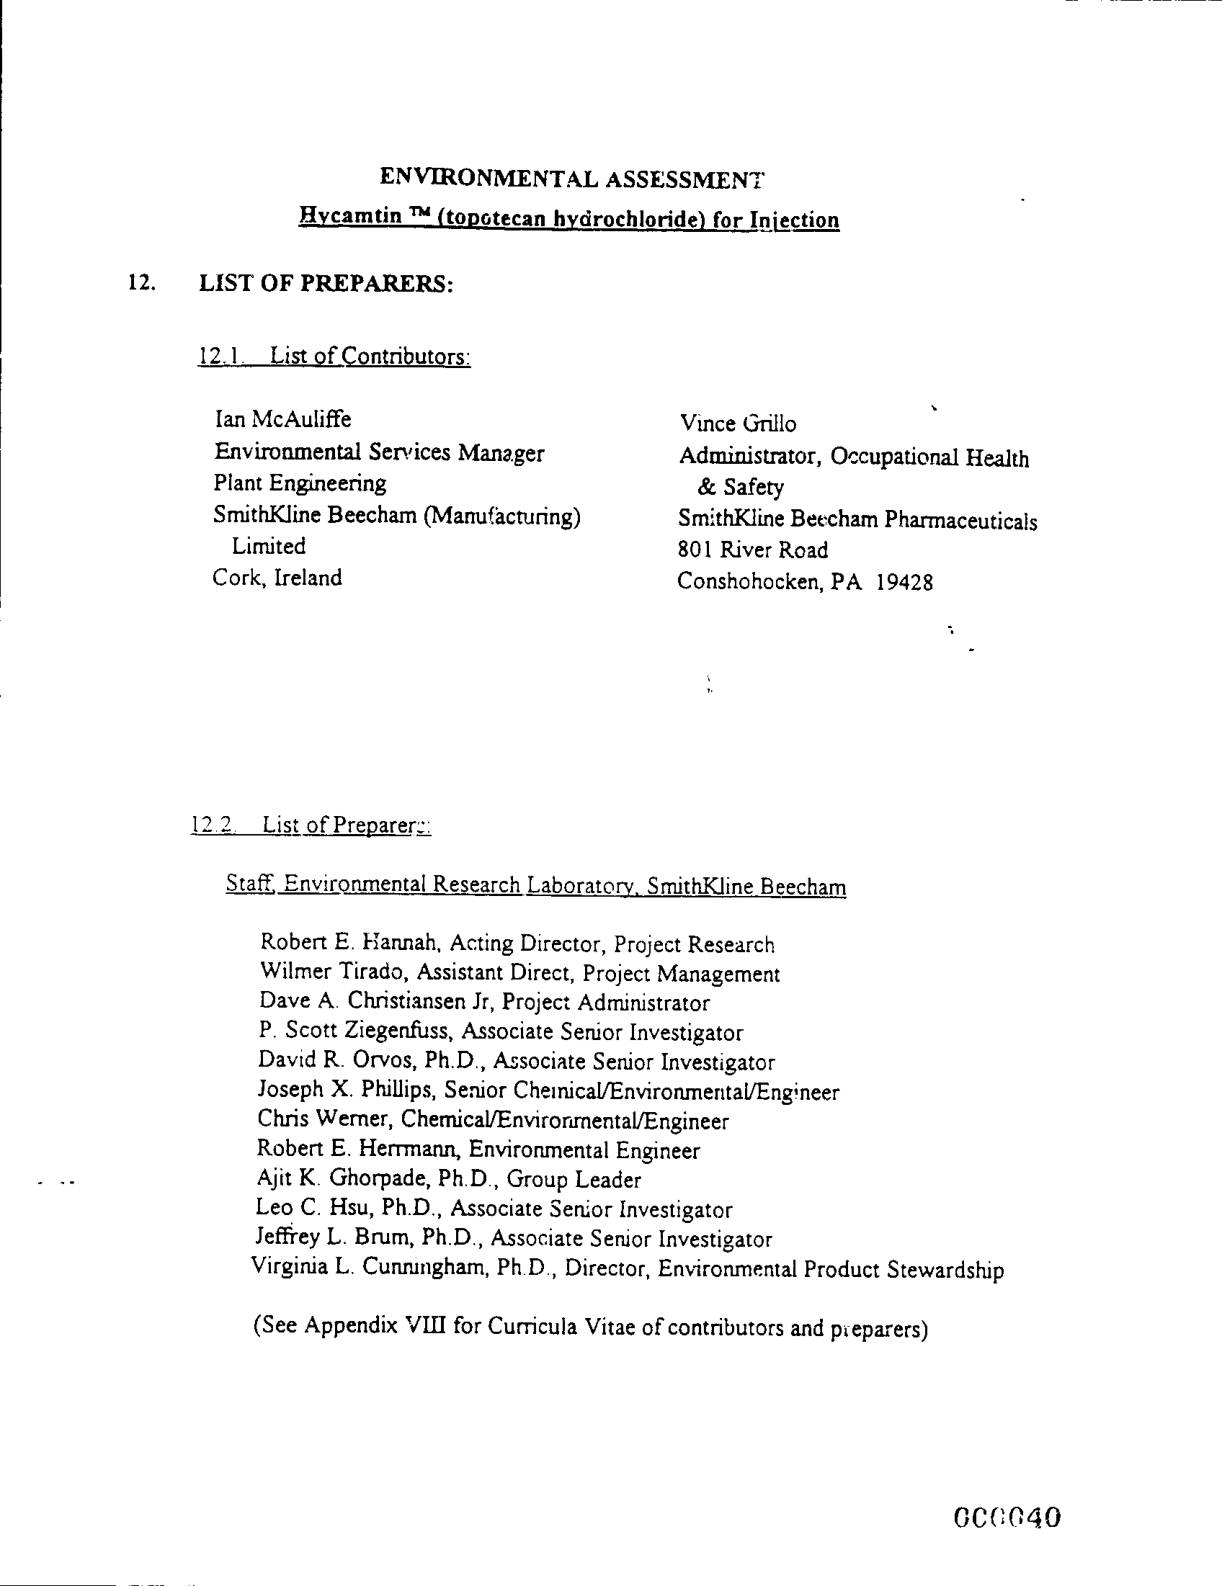nolines: (211, 404, 1040, 594)
